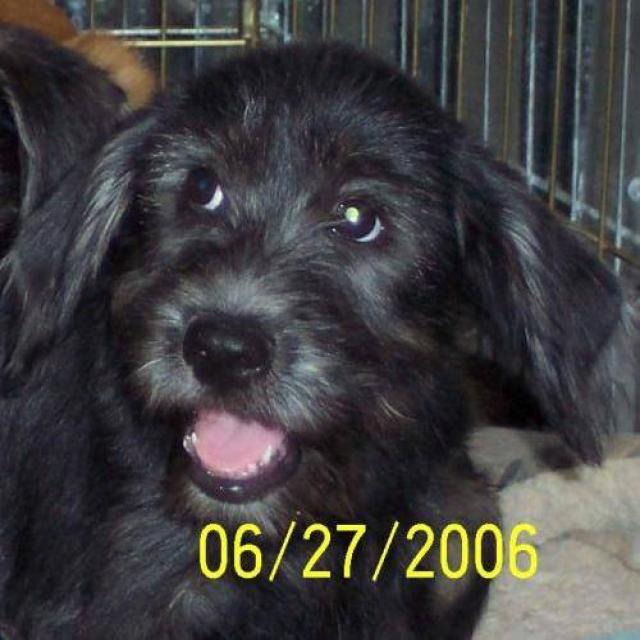Dog: (0, 28, 639, 521)
